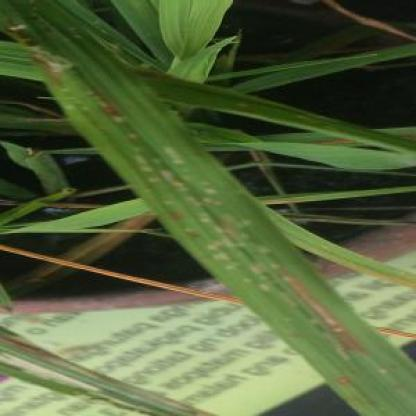Rice blast: (274, 267, 375, 359)
